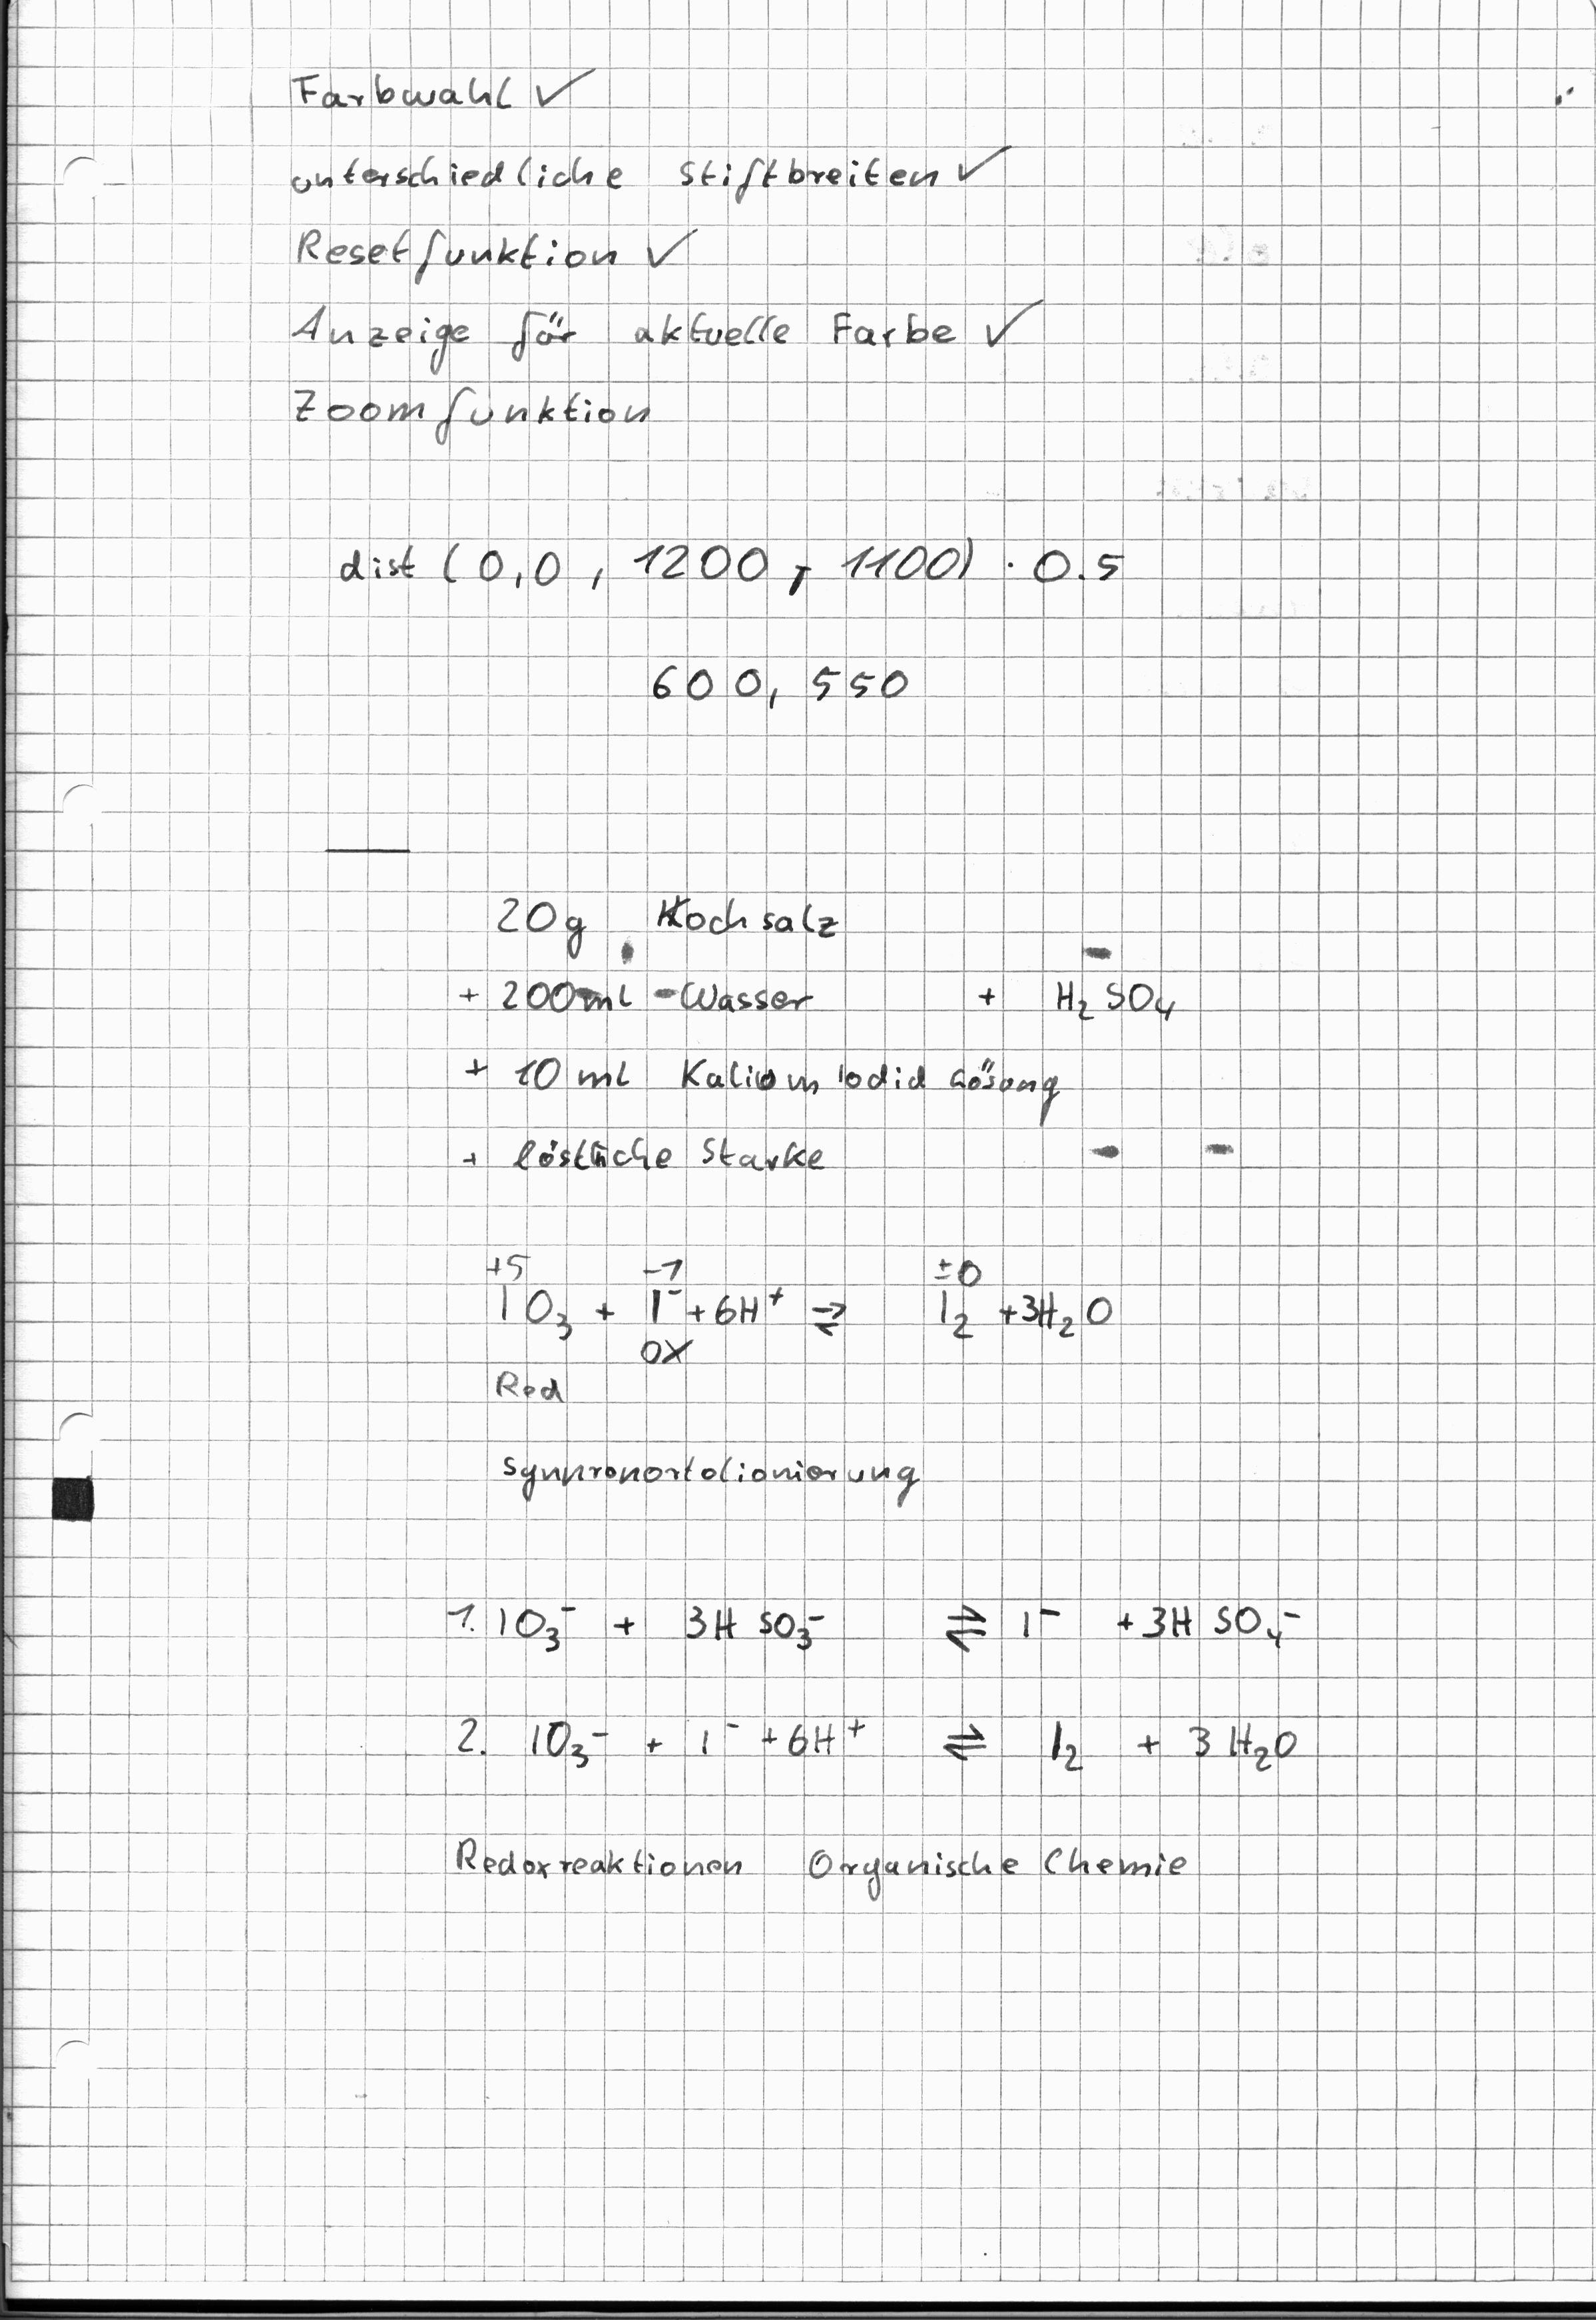word: (443, 882, 1188, 1193), (276, 302, 1049, 458), (277, 135, 1027, 295), (459, 1237, 1125, 1412), (429, 1569, 1310, 1677), (326, 512, 1139, 625), (444, 1685, 1306, 1792), (447, 1807, 1198, 1918), (469, 1422, 941, 1532), (628, 631, 923, 749), (276, 45, 604, 126)
